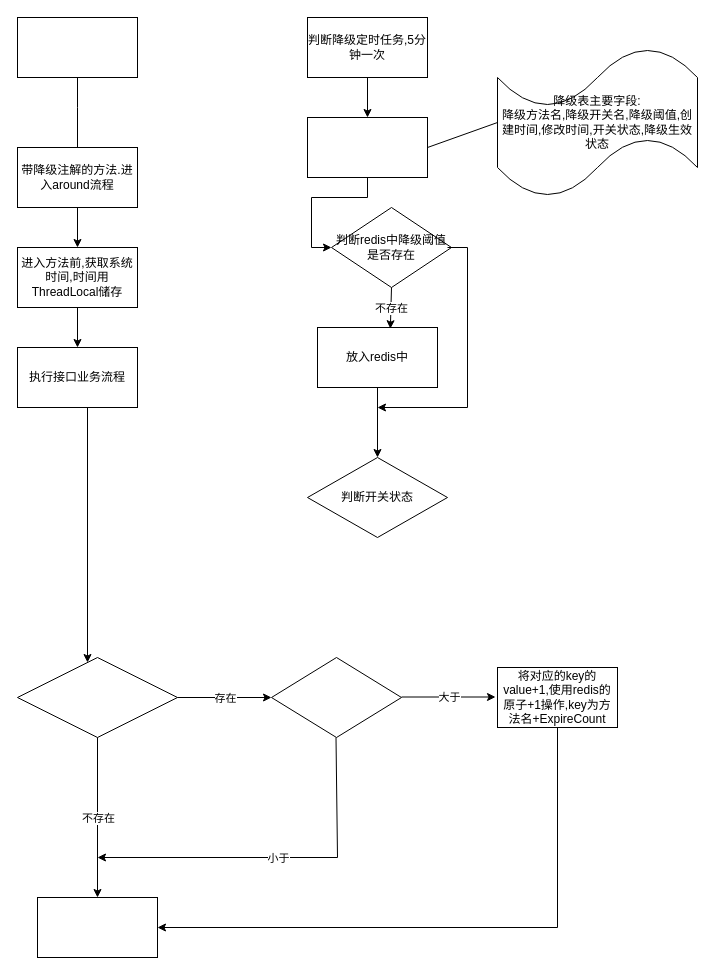
This 715x975 diagram has some shape labels left out. The centre of each missing label's shape, as x and y in pixels:
判断接口耗时是否大于配置值: point 336,697
循环系统降级表,获取有效的降级方法列表: point 367,147
根据接口业务方法获取redis缓存时延配置时间,判断是否存在: point 97,697
结束AOP: point 97,927
进入降级AOP处理: point 77,47
